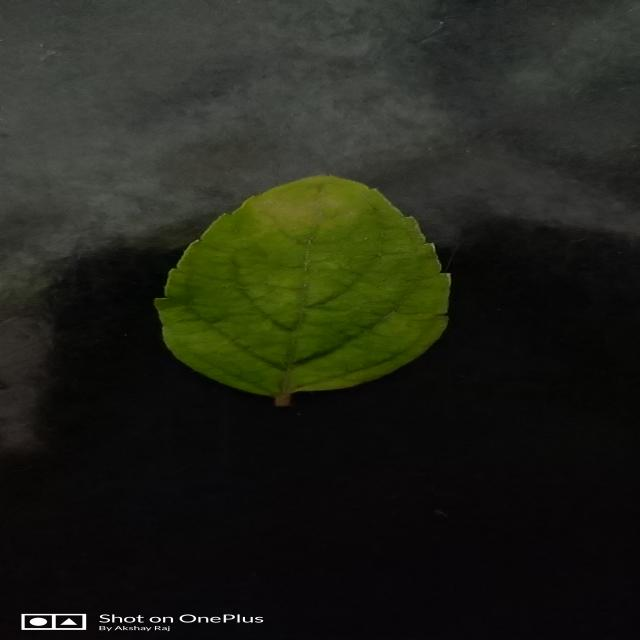defectedtulsi: (169, 176, 442, 296)
tulsi: (156, 176, 450, 406)
